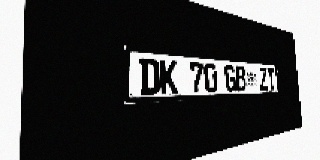0: (203, 63, 218, 93)
7: (189, 62, 204, 93)
B: (235, 66, 247, 91)
D: (139, 58, 160, 95)
G: (224, 65, 237, 92)
K: (159, 60, 178, 94)
T: (267, 68, 276, 90)
Z: (259, 67, 268, 90)
